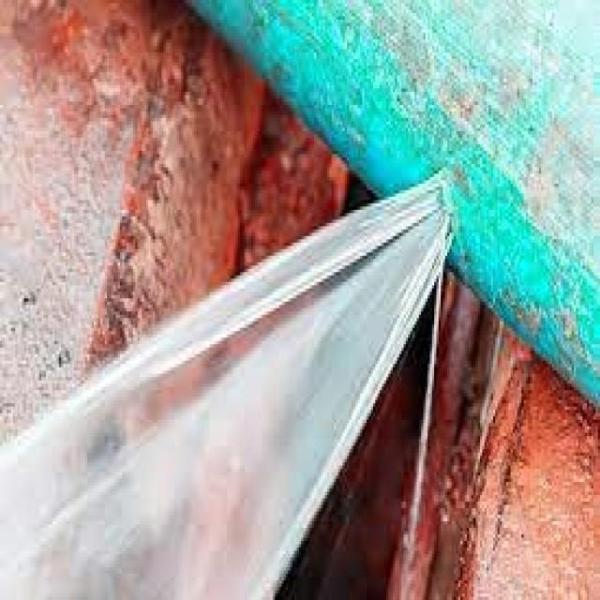water: (262, 88, 510, 438)
